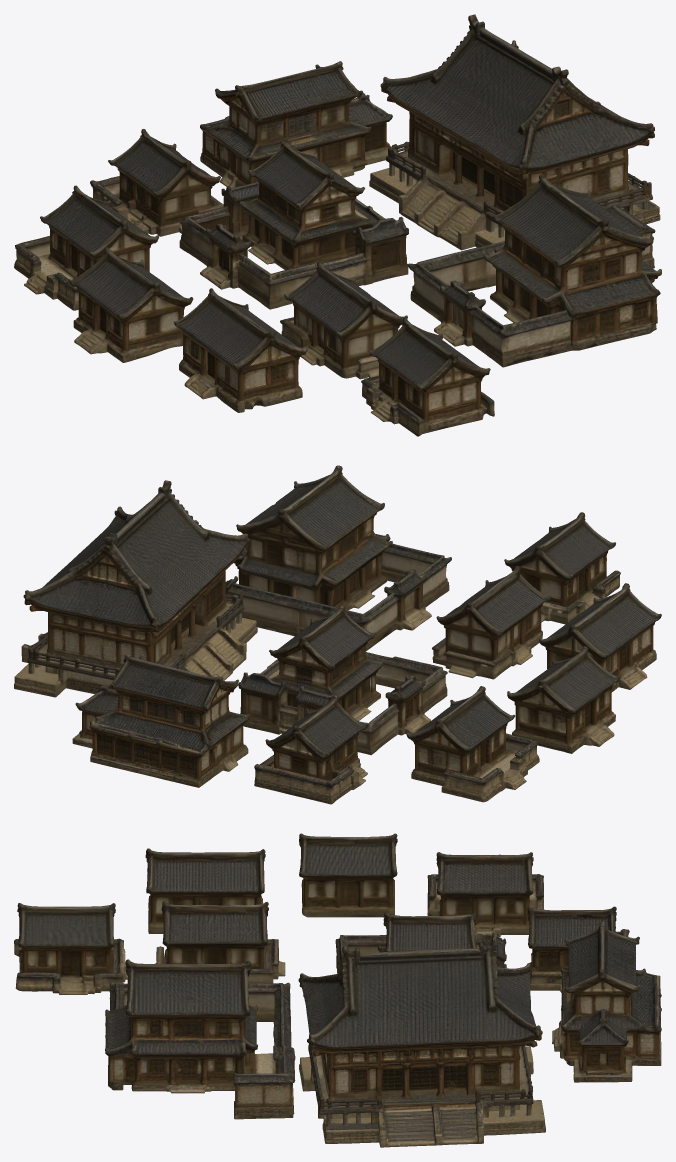
The model's file is Enlightenment Village (East Asian).fbx.
3 views of the same model, one above another, from view 1: azimuth 30°, elevation 25°; view 2: azimuth 150°, elevation 25°; view 3: azimuth 270°, elevation 25° (orthographic). The views are drawn at different scales.
Parts seen in each view (by area): view 1: tripo_node_f077386d; view 2: tripo_node_f077386d; view 3: tripo_node_f077386d.
Part boxes in pixels (x1,y1,x2,y2): tripo_node_f077386d: (14, 14, 661, 436); tripo_node_f077386d: (14, 465, 661, 804); tripo_node_f077386d: (14, 833, 661, 1147).
Bounding box in the file's own units: 0.9766 × 0.268 × 1.
